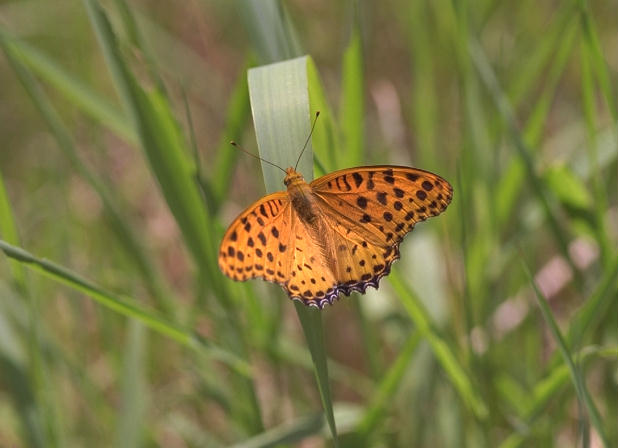Argyreus hyperbius: (212, 107, 459, 313)
butterfly: (214, 109, 461, 315)
